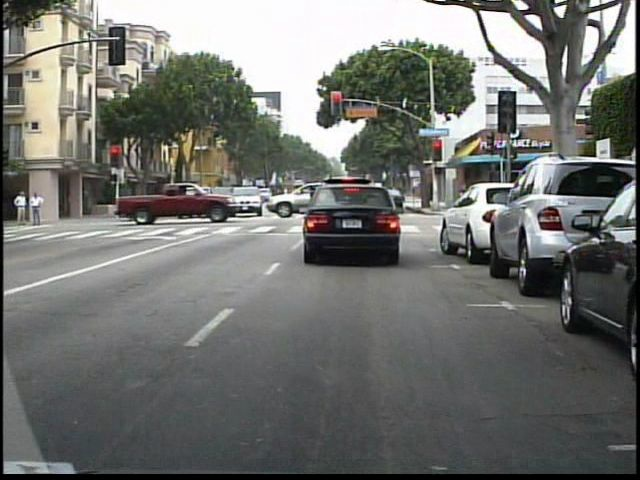person: (29, 189, 47, 228), (13, 187, 29, 228)
